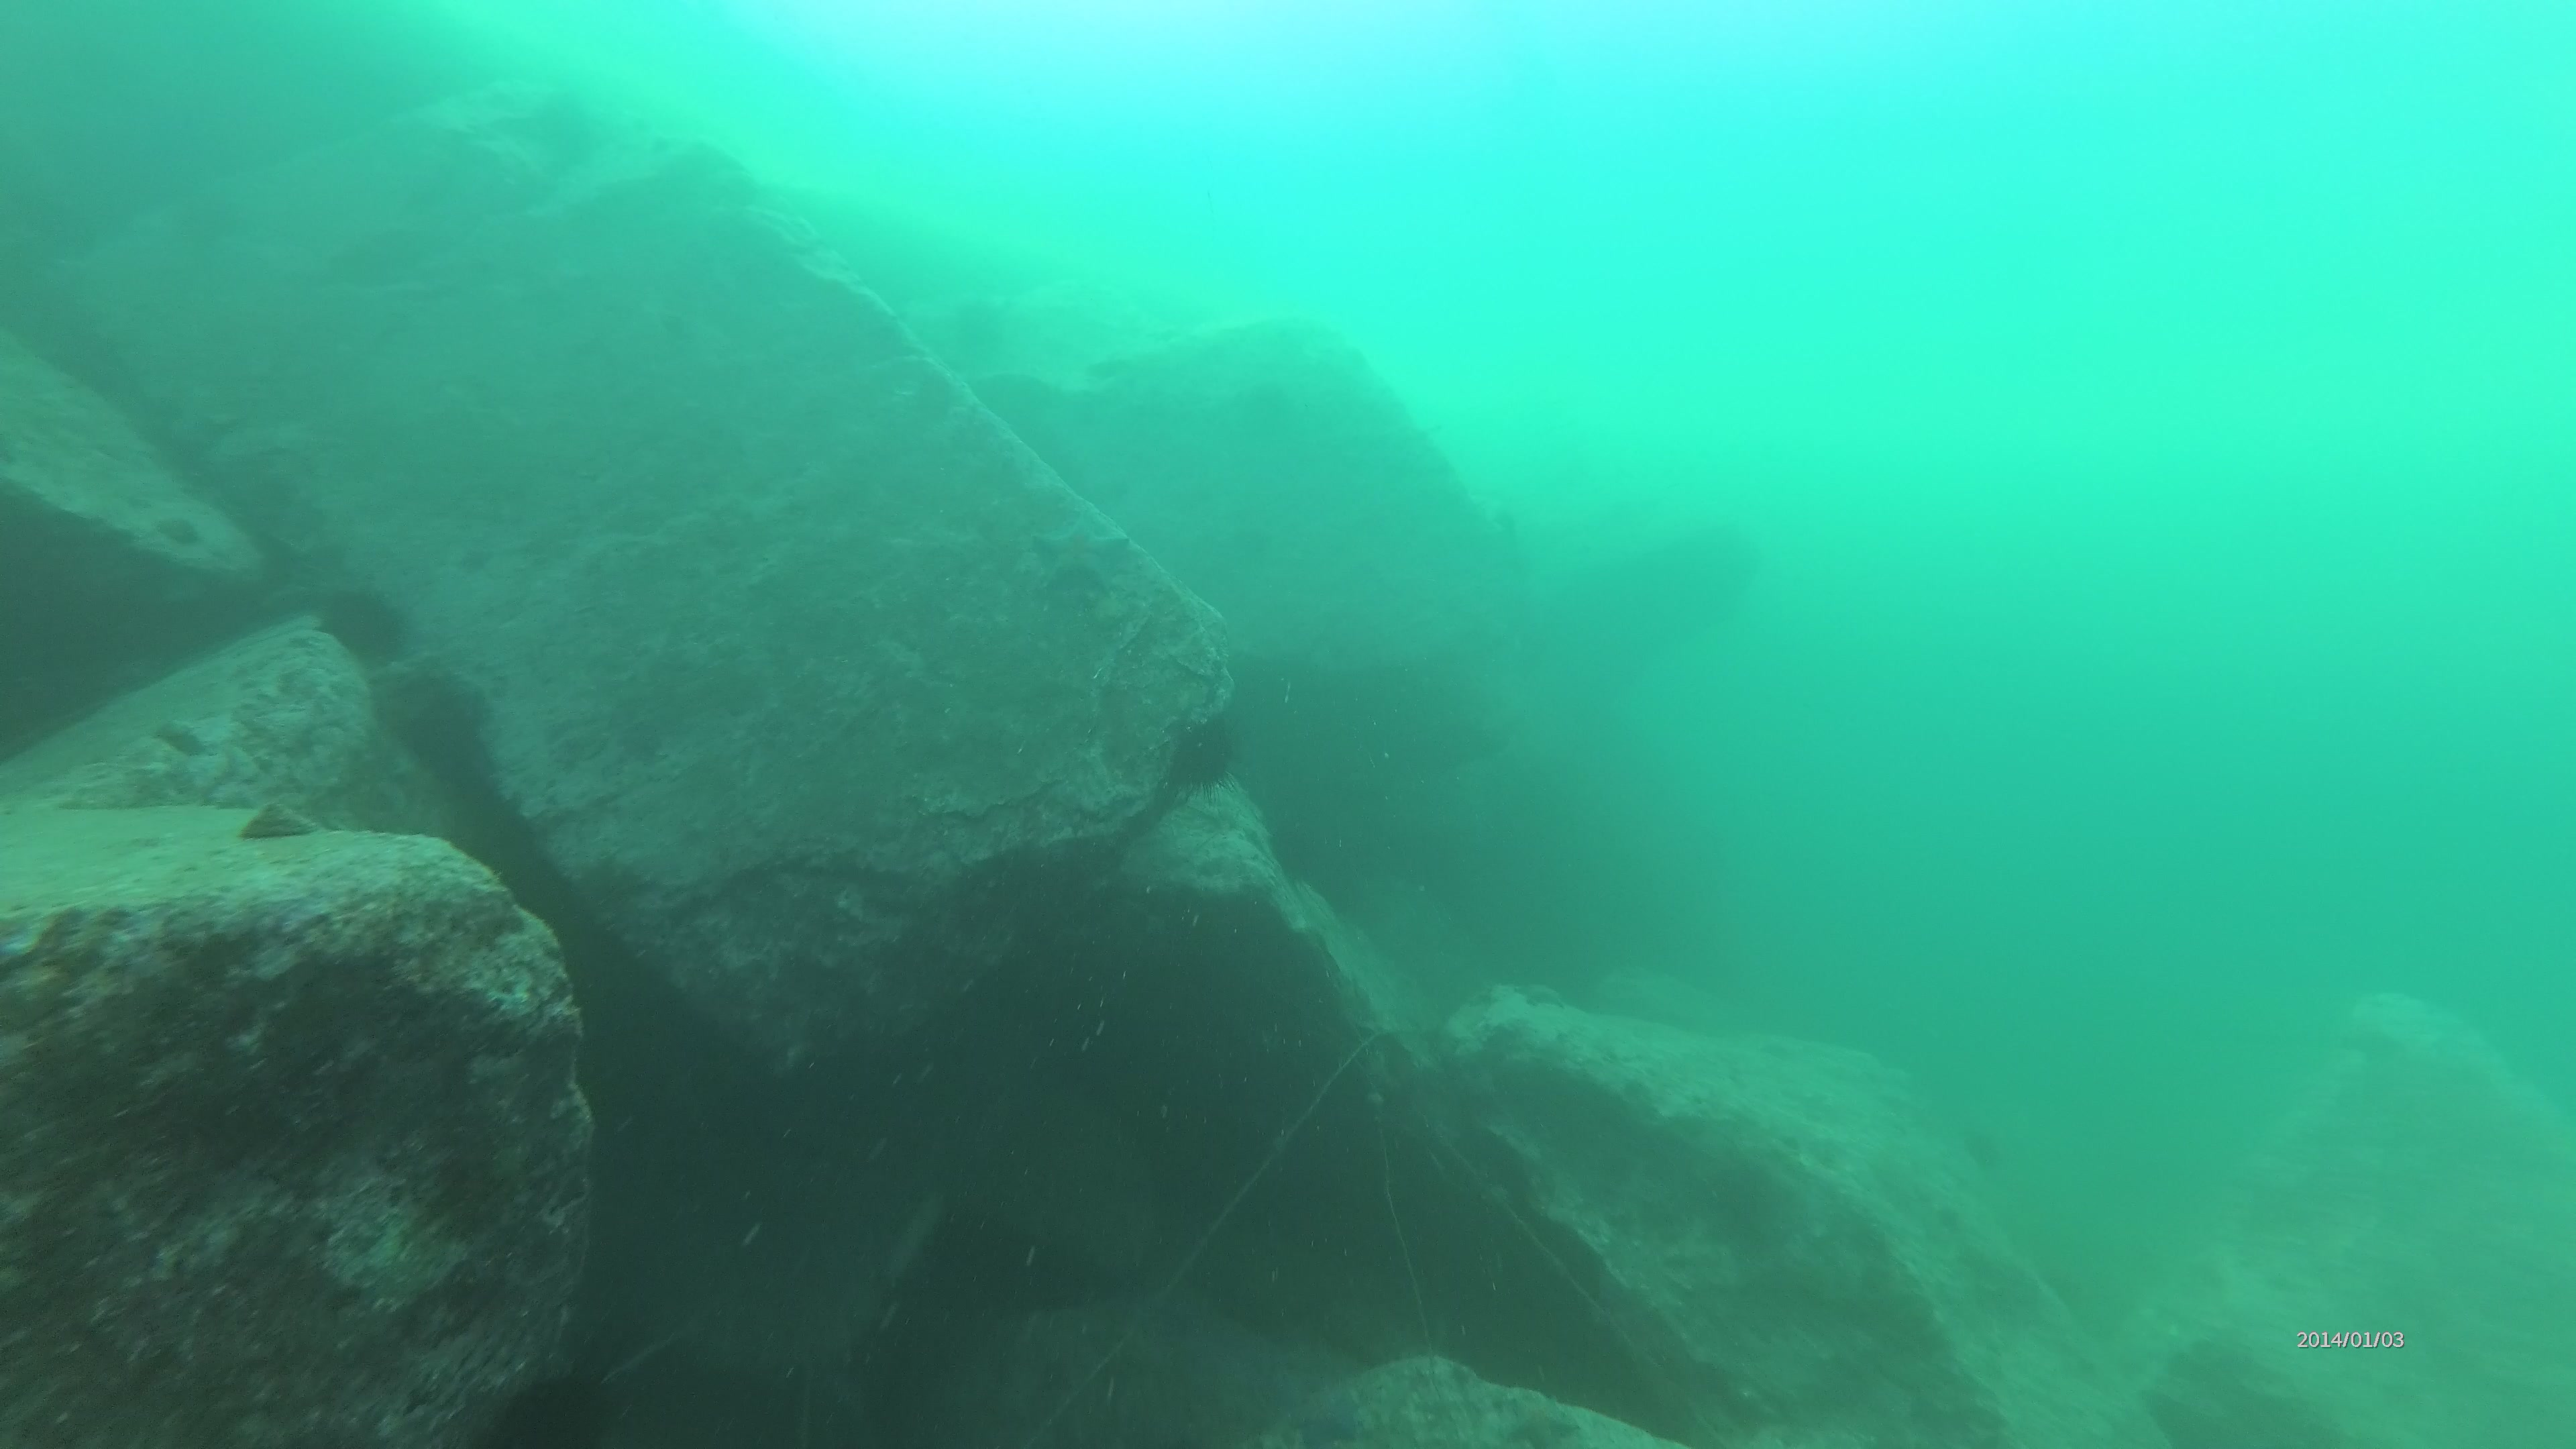echinus: (311, 571, 414, 672), (1145, 702, 1240, 809)
